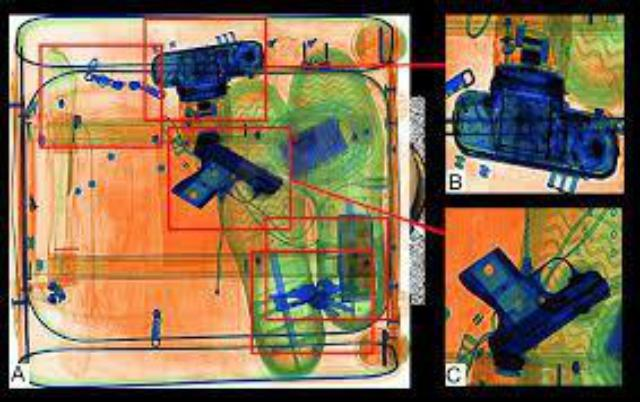Gun: (453, 242, 611, 371), (160, 126, 282, 206)
